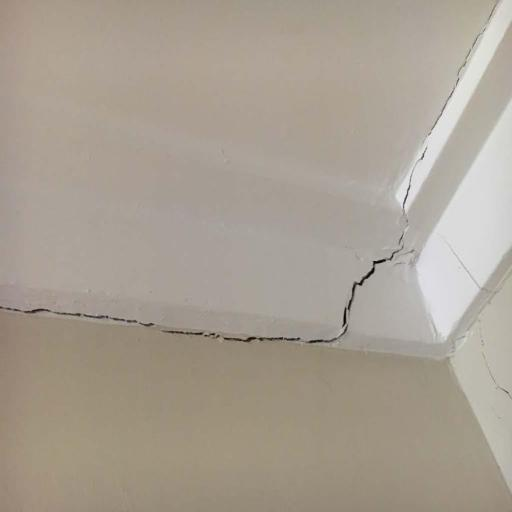spalling: (7, 216, 415, 361)
